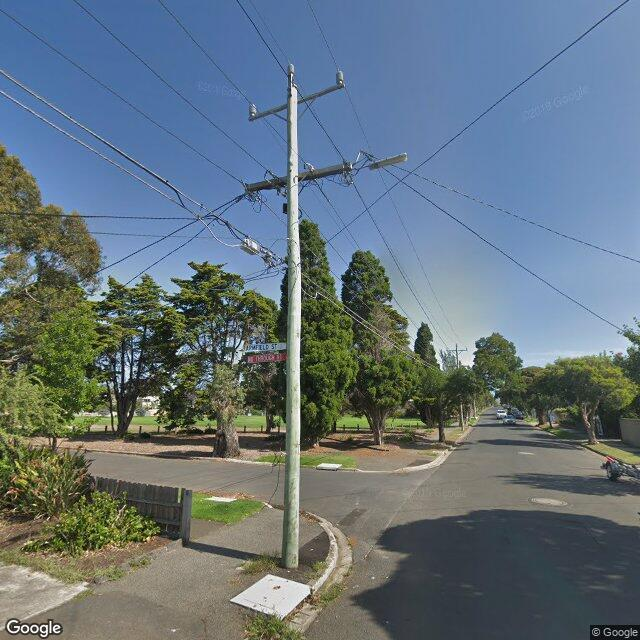HV-transmission: (250, 64, 343, 114), (446, 343, 467, 351)
crossarm: (248, 84, 346, 122), (247, 162, 352, 192), (446, 350, 468, 351)
streetlight: (351, 152, 407, 170)
timber-pole: (282, 85, 301, 570), (456, 344, 464, 431)
